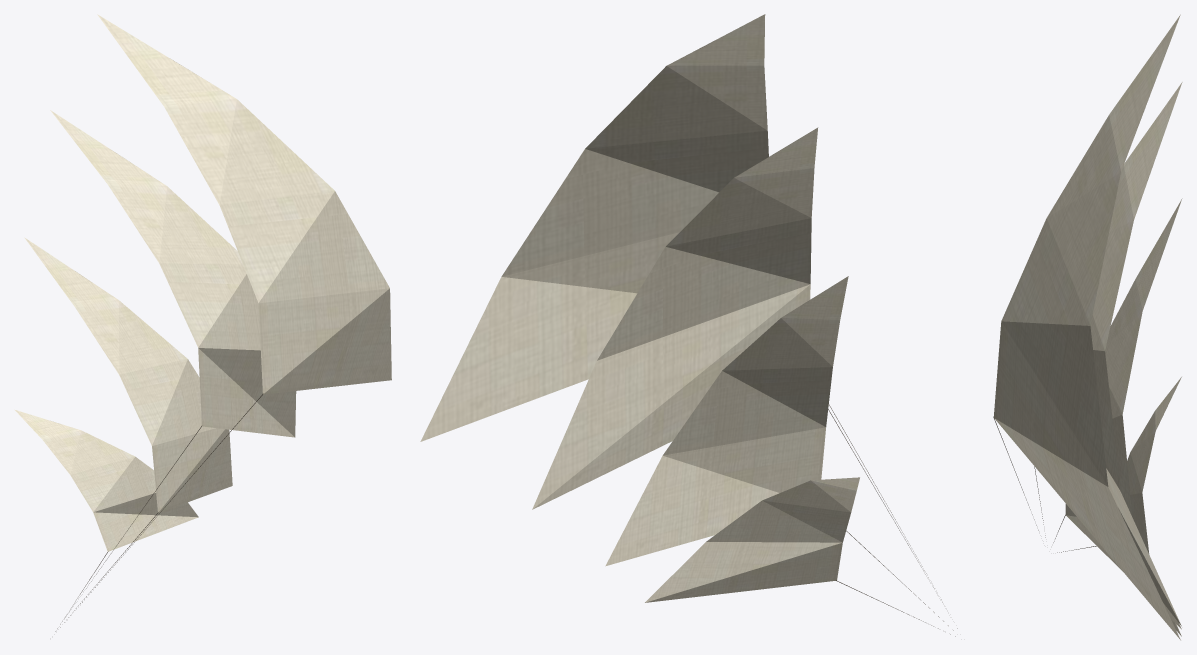
File: LineWarship80-cannonsKliver_LOD3.FBX
3 views of the same model, side by side, from view 1: azimuth 30°, elevation 25°; view 2: azimuth 150°, elevation 25°; view 3: azimuth 270°, elevation 25° (orthographic). The views are drawn at different scales.
Visible parts, largest first — view 1: LineWarship80CannonsKliverLD3_001; view 2: LineWarship80CannonsKliverLD3_001; view 3: LineWarship80CannonsKliverLD3_001.
Boxes of the visible parts, bbox=[...] form: LineWarship80CannonsKliverLD3_001: bbox=[14, 14, 391, 551]; LineWarship80CannonsKliverLD3_001: bbox=[420, 14, 859, 602]; LineWarship80CannonsKliverLD3_001: bbox=[993, 14, 1182, 640].
Size of the model in its own units: 982 by 1289 by 370.
